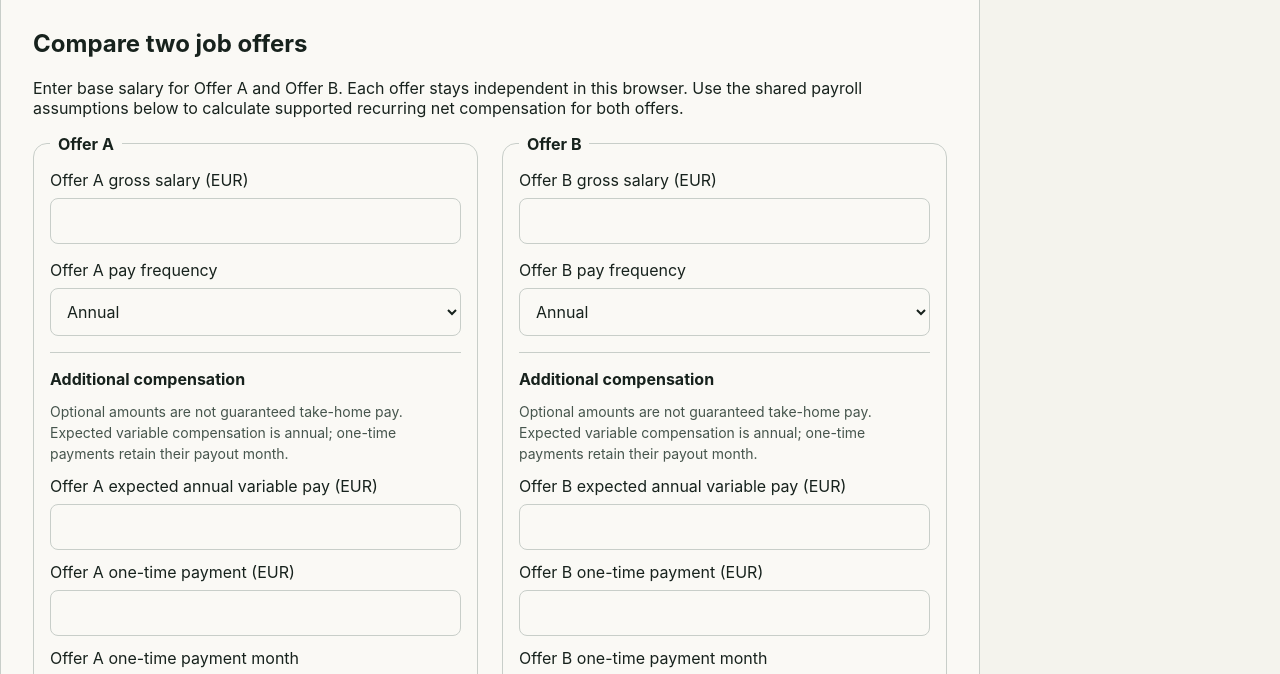
Test: independent remote-work admission › accepts a complete schedule with expenses 15.25 and no commute inputs
In the field labelled "Offer A gross salary (EUR)": (256,221) 50,198 -> 461,244, type "50000"
In the field labelled "Offer B gross salary (EUR)": (724,221) 519,198 -> 930,244, type "60000"
(page scrolled)
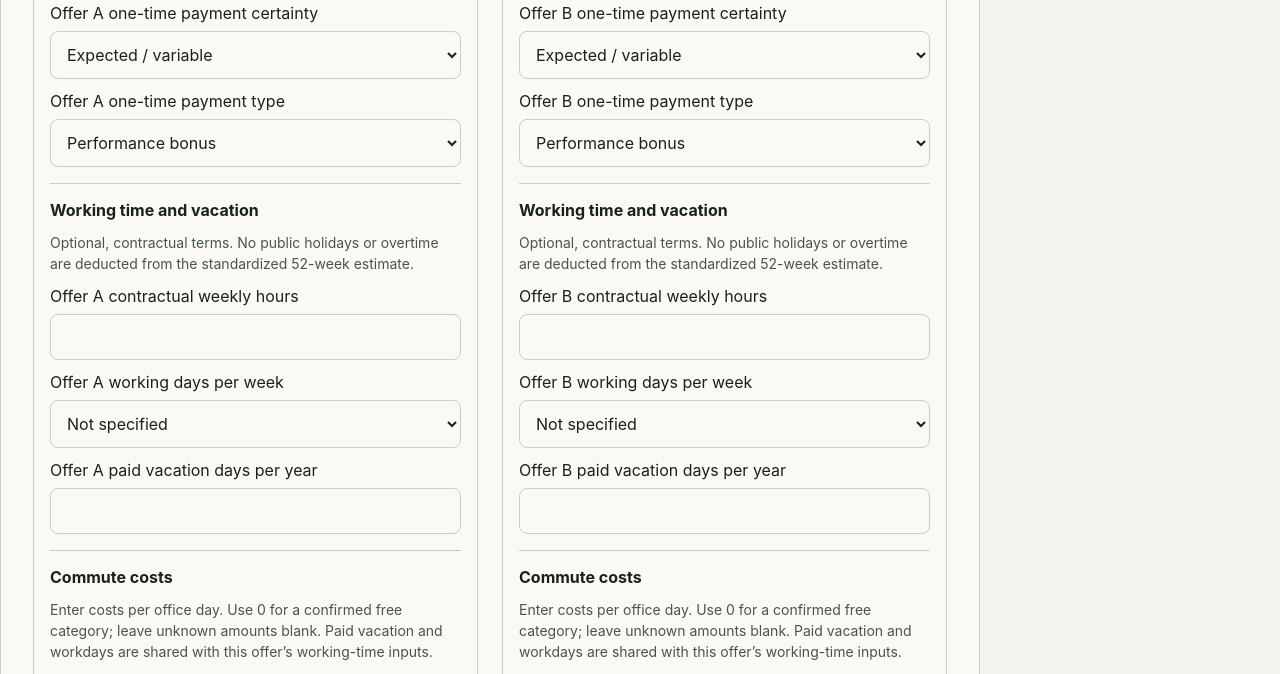
In the field labelled "Offer A contractual weekly hours": (256,337) 50,314 -> 461,360, type "40"
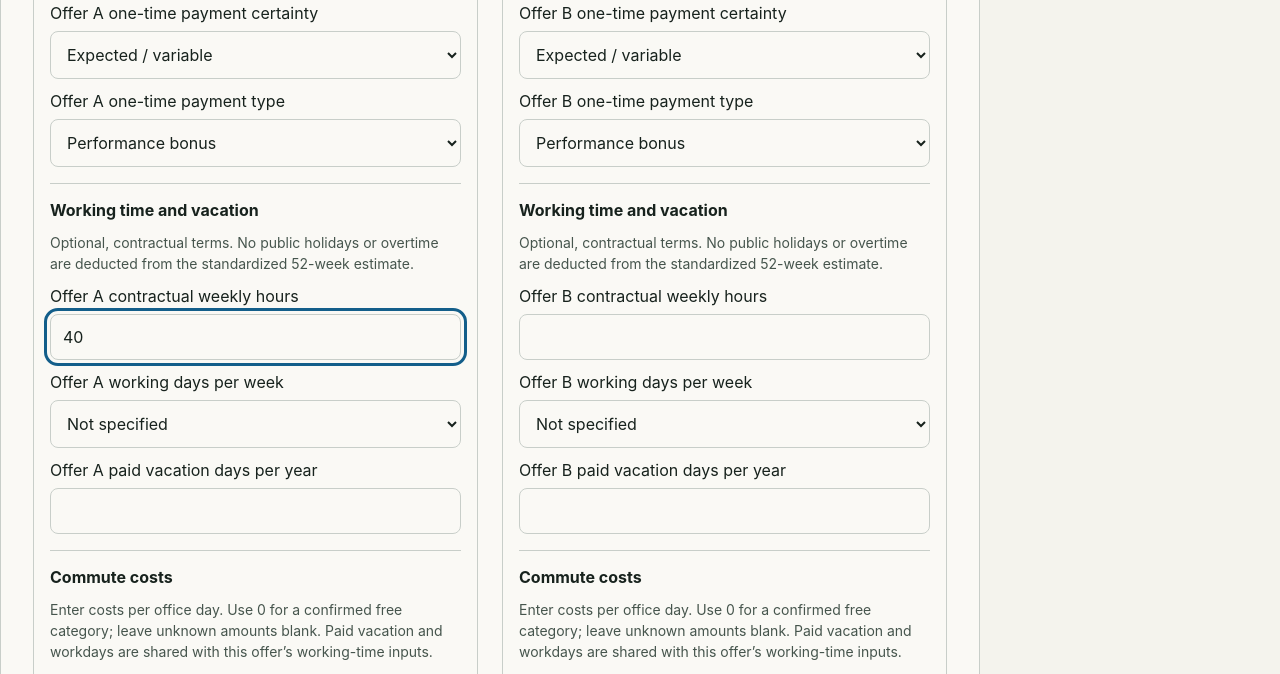
Select "5" in the dropdown labelled "Offer A working days per week": (256,424) 50,400 -> 461,448
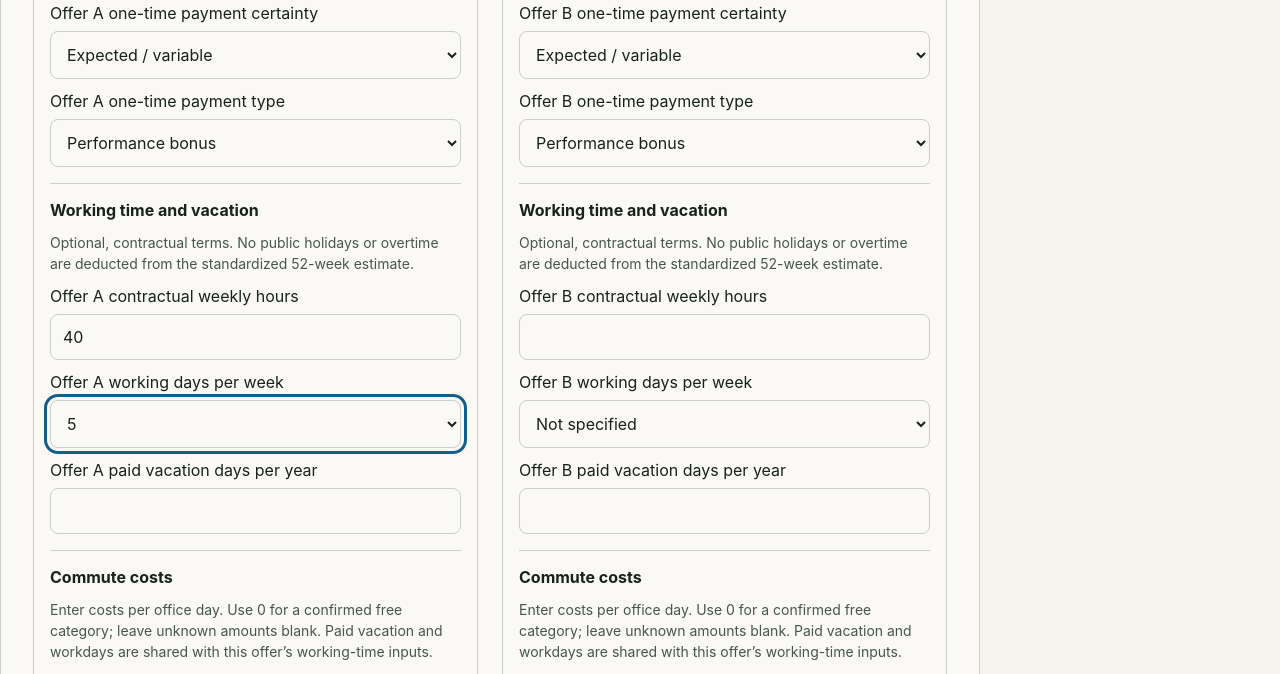
In the field labelled "Offer A paid vacation days per year": (256,511) 50,488 -> 461,534, type "30"
(page scrolled)
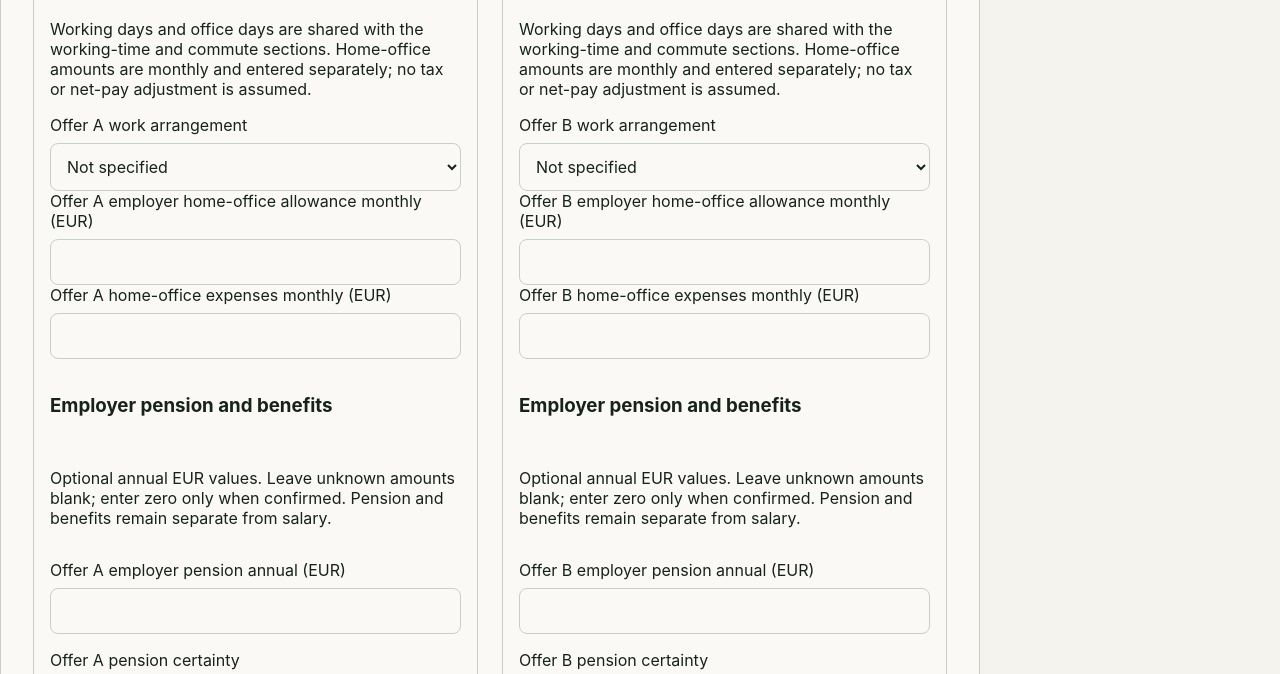
In the field labelled "Offer A home-office expenses monthly (EUR)": (256,336) 50,313 -> 461,359, type "15.25"
(page scrolled)
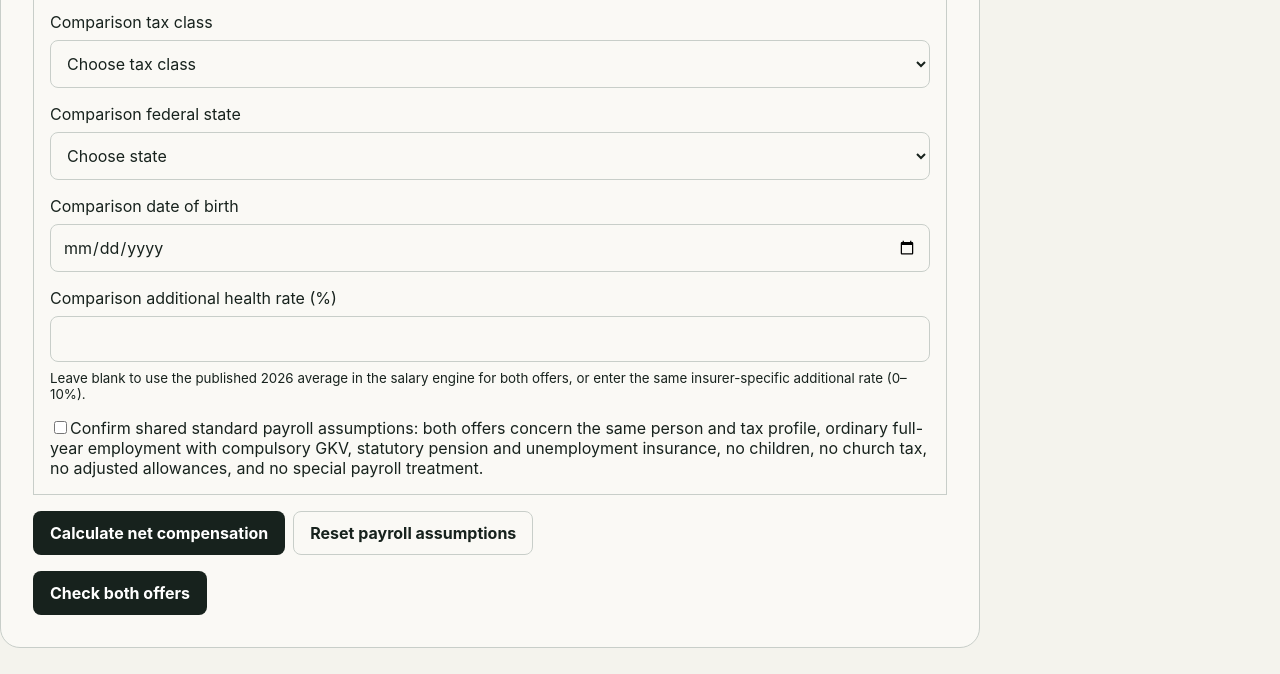
Click the button "Check both offers": (120,593) 33,571 -> 207,615
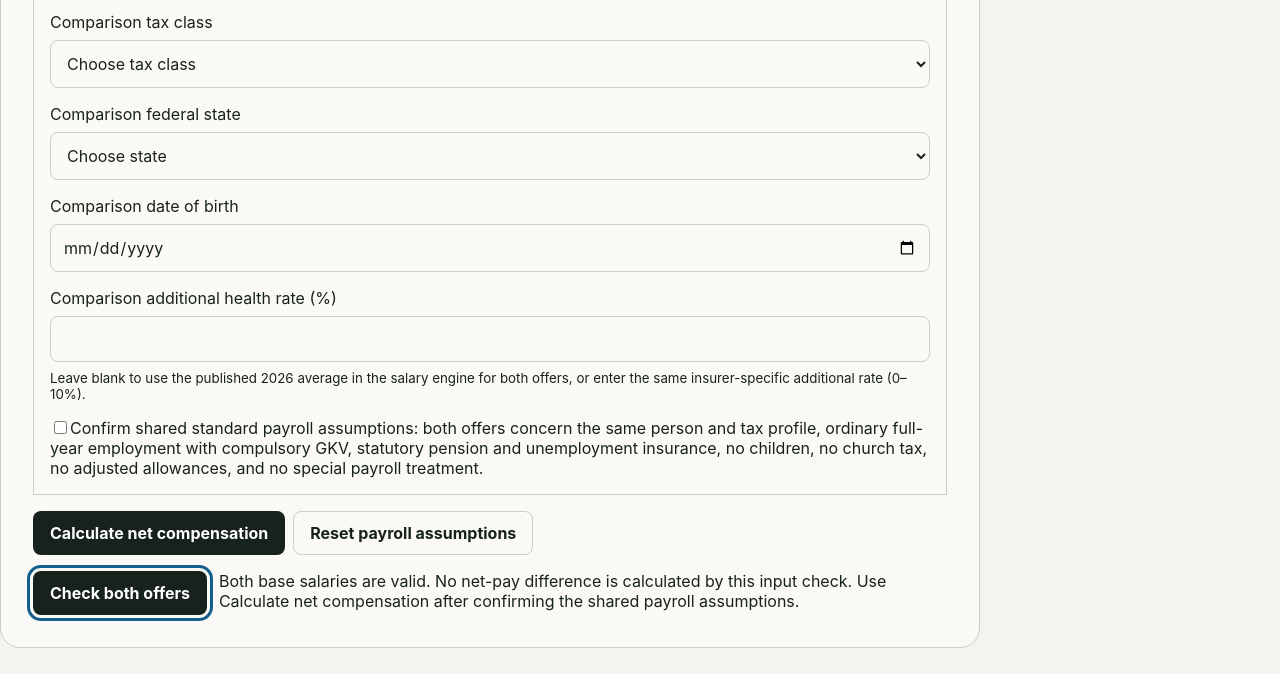
Expected: the message shows "Both base salaries are valid", 219,571 -> 886,611
